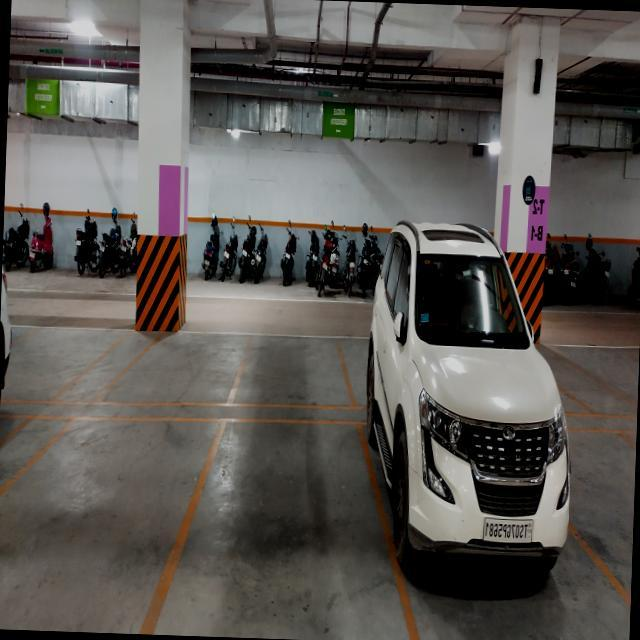car: (440, 380, 554, 636)
free: (37, 409, 184, 629), (233, 430, 347, 638), (133, 327, 232, 412), (250, 331, 343, 414)
